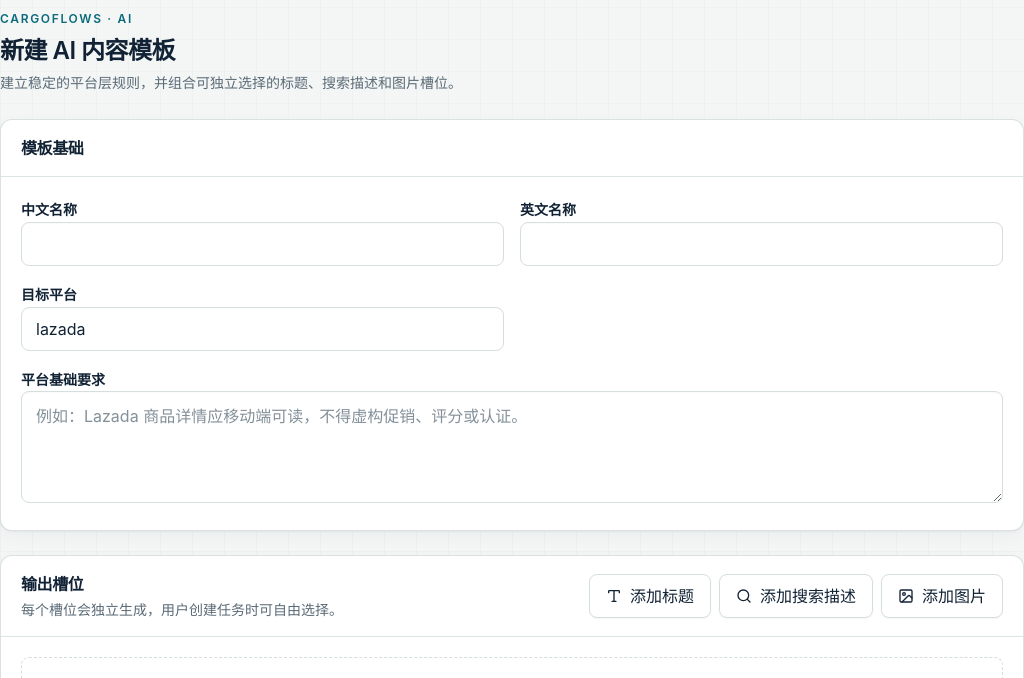
Test: NewAITemplatePage › enables all twenty styles and defaults new image slots to white background
What coordinates should you click on to do the following:
click the button "添加图片"
I would click on:
 (942, 596)
Its box is x1=881 y1=574 x2=1003 y2=618.
(page scrolled)
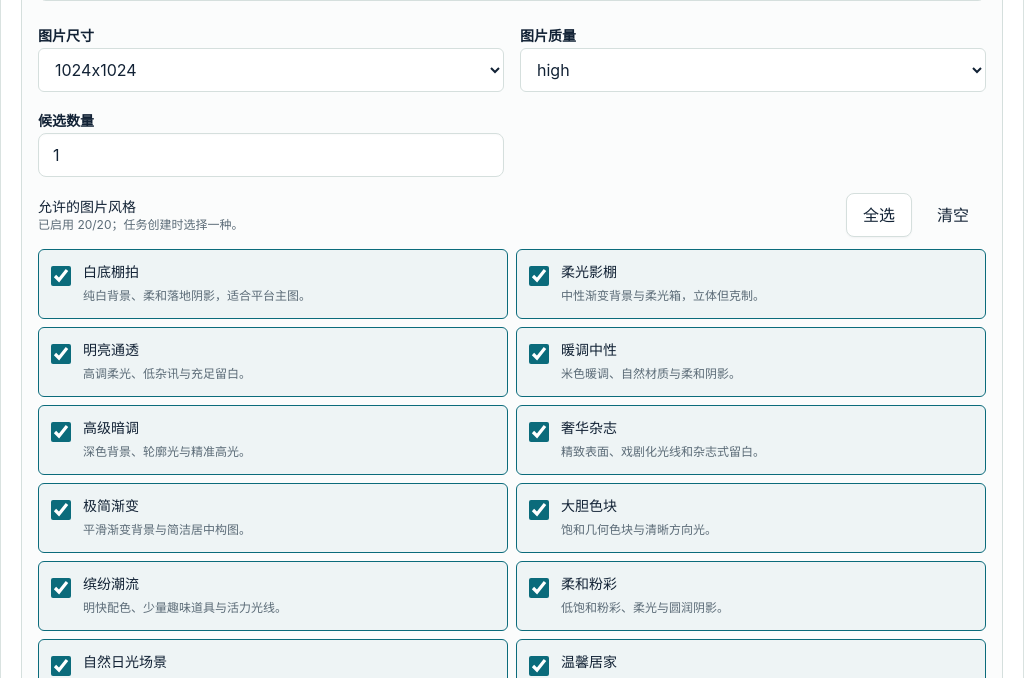
Expected: the text "已启用 20/20；任务创建时选择一种。" is shown, x1=38 y1=217 x2=244 y2=233
Expected: the text "白底棚拍" is shown 2 times
Expected: the text "纯白背景、柔和落地阴影，适合平台主图。" is shown, x1=83 y1=286 x2=311 y2=306
